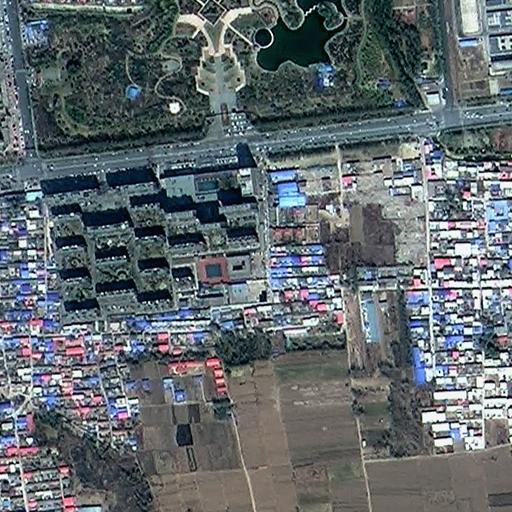school: (194, 250, 267, 303)
